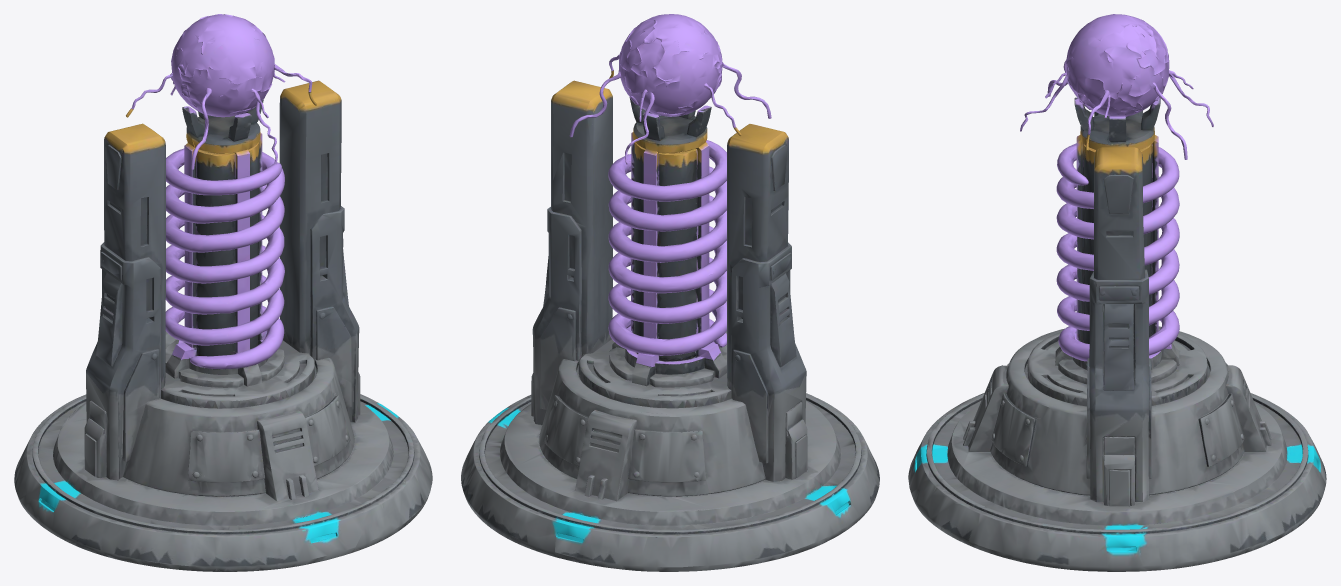
File: town-tesla-full.glb
3 renders of one model, left to right at view 1: azimuth 30°, elevation 25°; view 2: azimuth 150°, elevation 25°; view 3: azimuth 270°, elevation 25°, orthographic.
Visible parts, largest first — view 1: town-tesla-full; view 2: town-tesla-full; view 3: town-tesla-full.
Part boxes in pixels (x1,y1,x2,y2): town-tesla-full: (14, 14, 432, 571); town-tesla-full: (461, 14, 879, 571); town-tesla-full: (908, 14, 1326, 571).
Bounding box in the file's own units: 3.6 × 4.42 × 3.6.
Materials: 1 (1 with a texture image).
